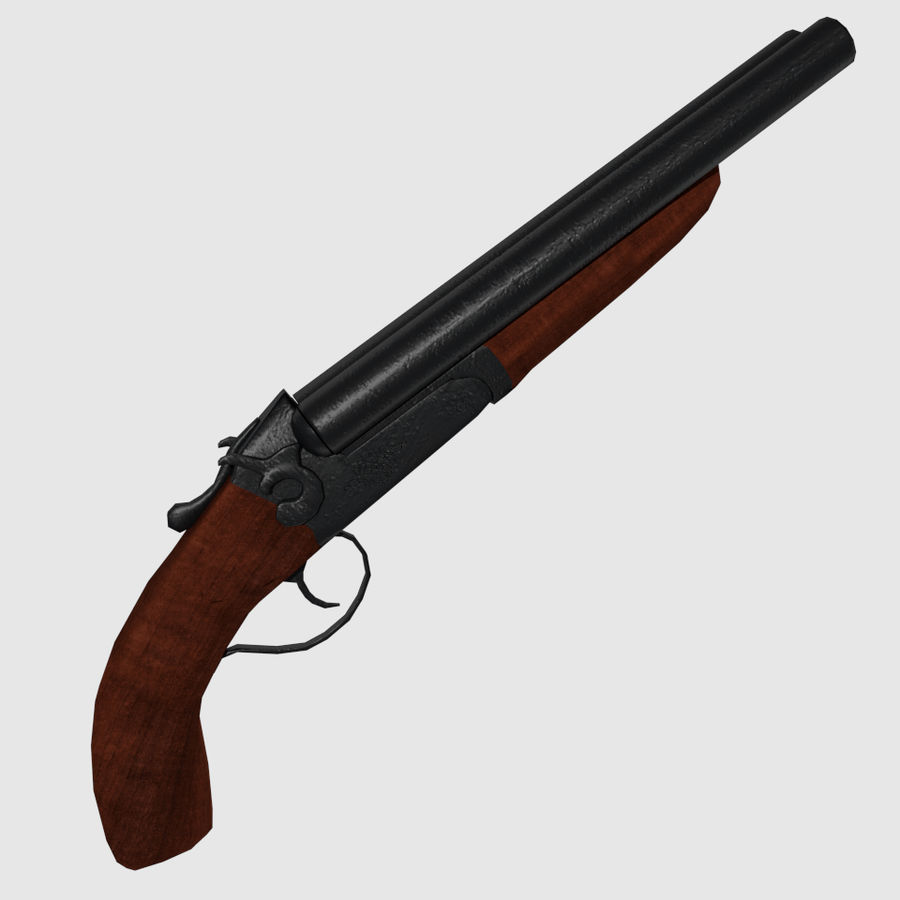weapon: (69, 12, 864, 875)
